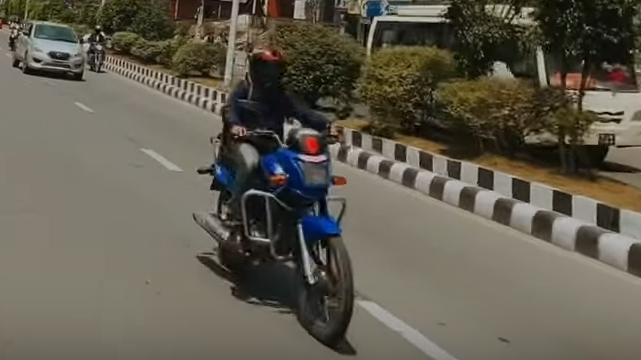bike: (194, 93, 362, 354)
